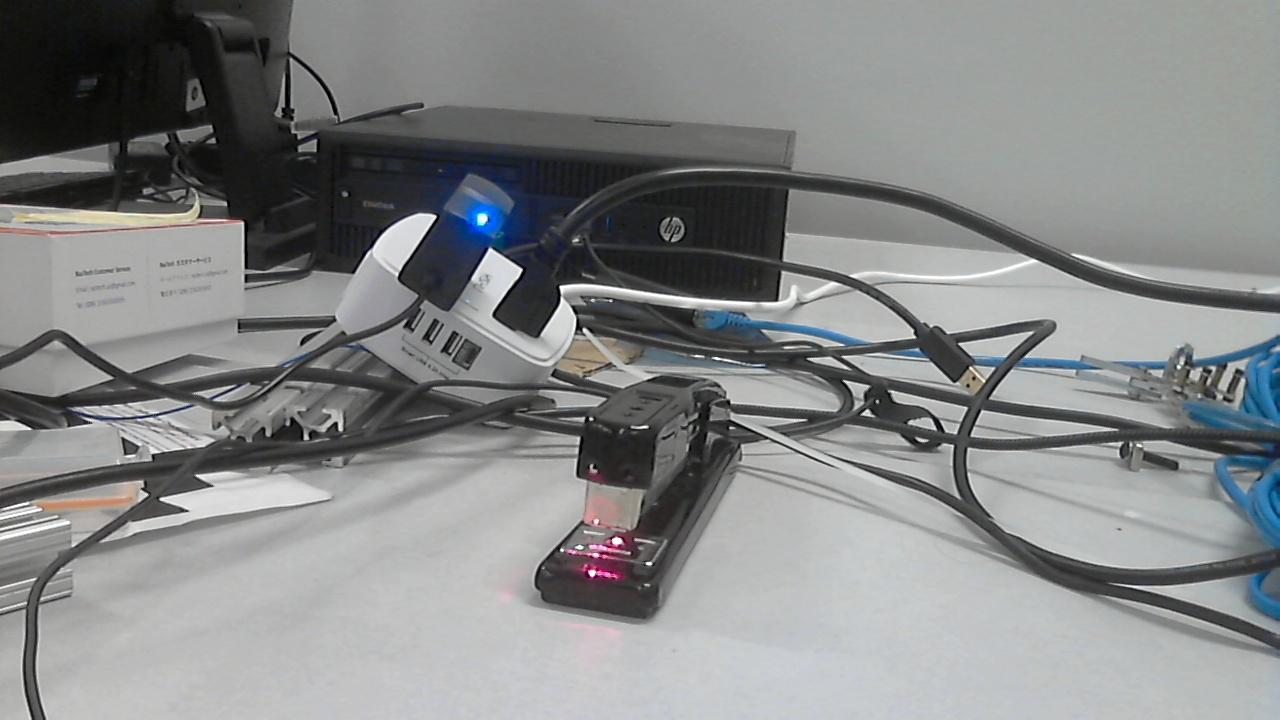object stapler - material metal - color black - Pdfname fduiadew: (575, 452, 637, 592)
